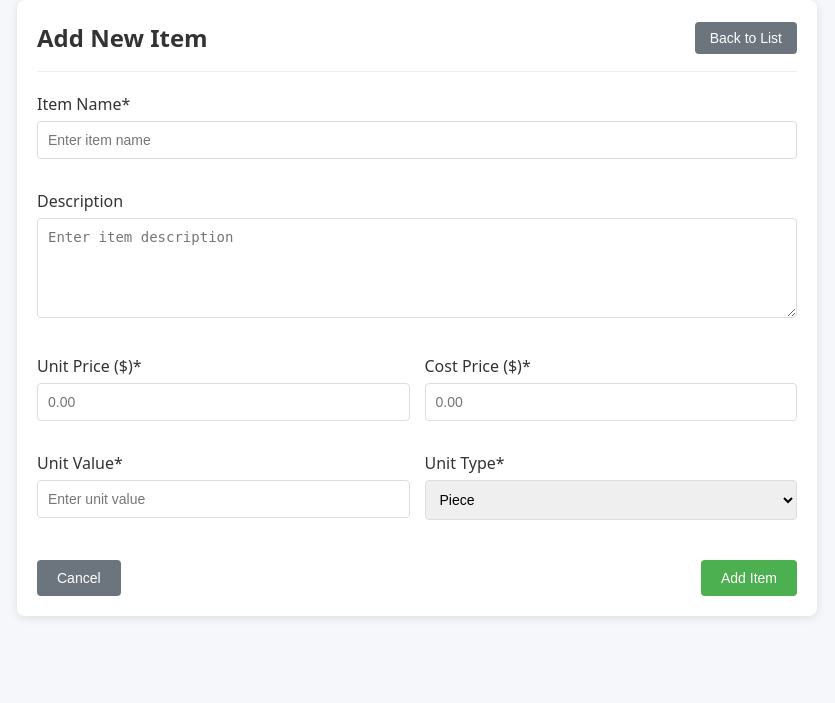
Scenario: ItemForm Component › displays validation errors for empty fields
Click the button "Add Item": point(749, 578) [701, 560, 797, 596]
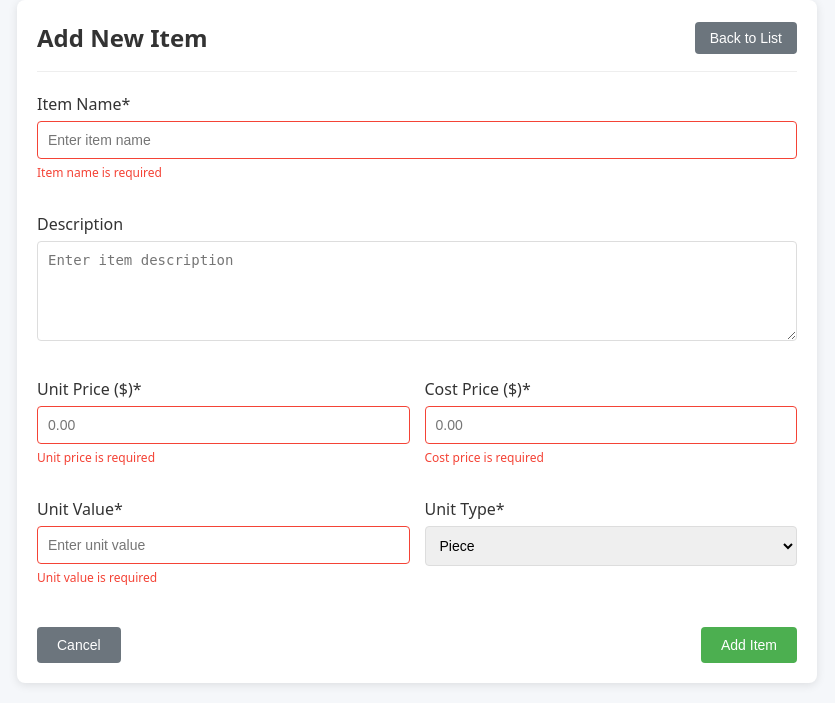
Result: the text "Item name is required" is shown at [37, 164, 162, 181]
Result: the text "Unit price is required" is shown at [37, 449, 155, 466]
Result: the text "Cost price is required" is shown at [424, 449, 544, 466]
